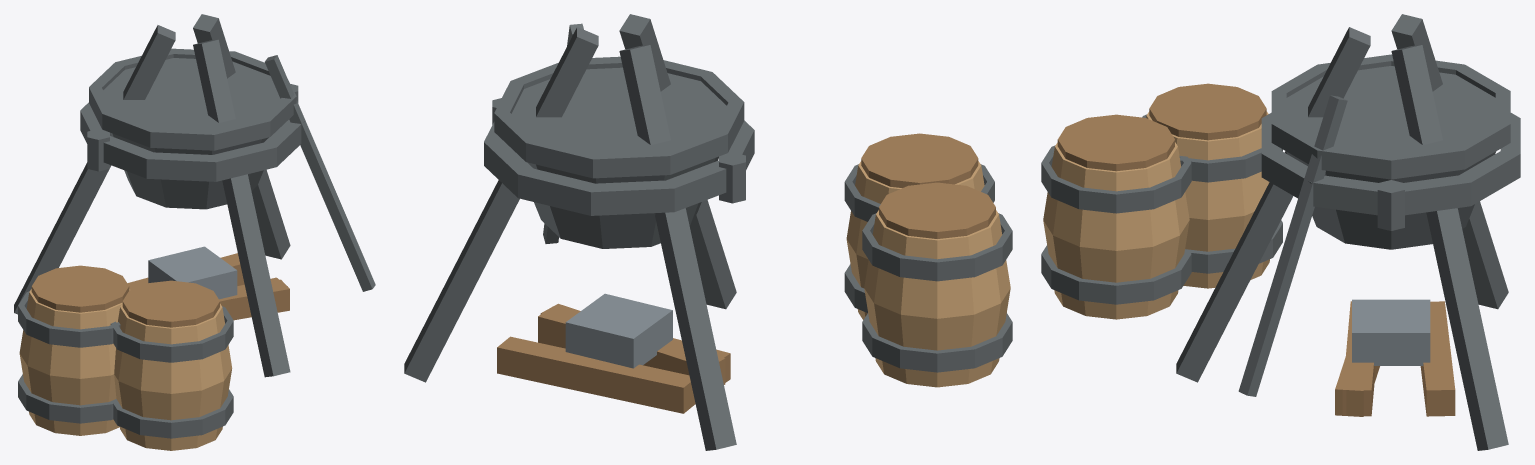
Rendered from pitch-cauldron-on-a-tripod.glb.
3 views of the same model, side by side, from view 1: azimuth 30°, elevation 25°; view 2: azimuth 150°, elevation 25°; view 3: azimuth 270°, elevation 25° (orthographic). The views are drawn at different scales.
Parts seen in each view (by area): view 1: pitch-cauldron-tripod, cauldron/iron; view 2: pitch-cauldron-tripod, cauldron/iron; view 3: pitch-cauldron-tripod, cauldron/iron.
Boxes of the visible parts, x1=… form: pitch-cauldron-tripod: x1=14, y1=14, x2=375, y2=450; cauldron/iron: x1=89, y1=48, x2=296, y2=209; pitch-cauldron-tripod: x1=404, y1=14, x2=1012, y2=450; cauldron/iron: x1=494, y1=56, x2=744, y2=248; pitch-cauldron-tripod: x1=1041, y1=14, x2=1520, y2=450; cauldron/iron: x1=1271, y1=54, x2=1510, y2=249.
Size of the model in its own units: 2.02 by 1.46 by 1.83.
